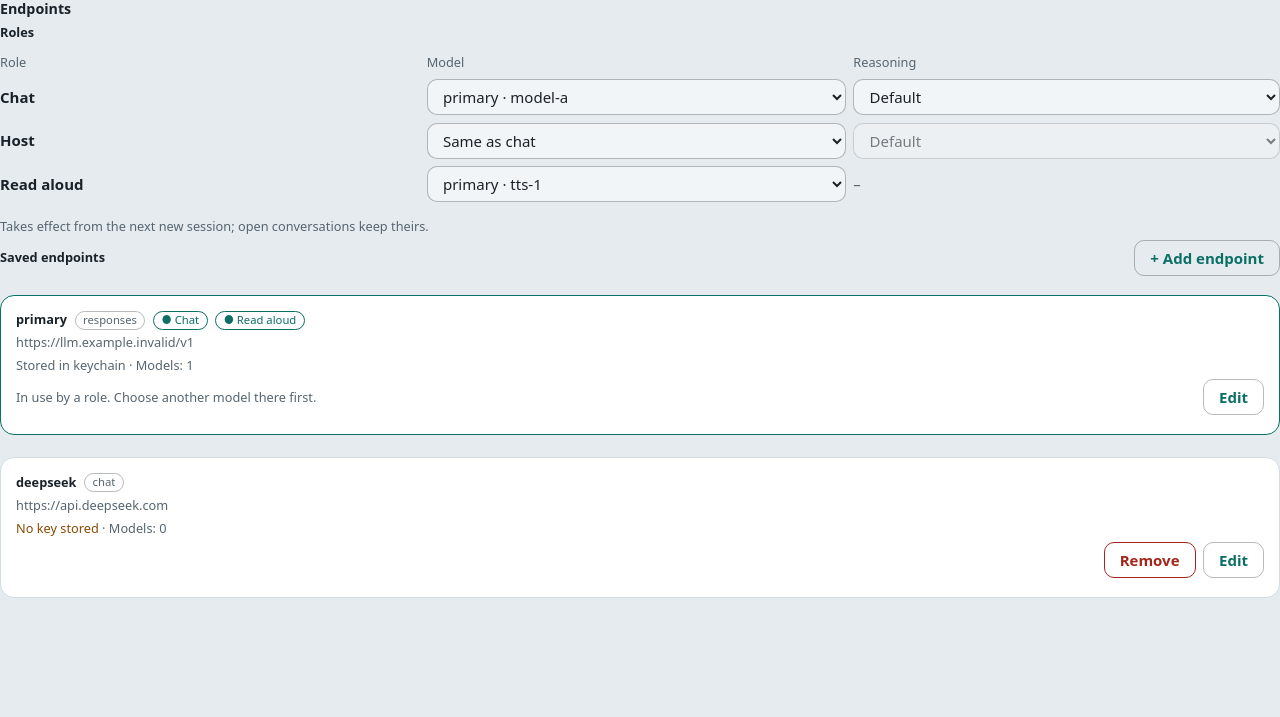
Test case: endpoints › messages wire is offered, with the anthropic preset and cache-write price
Click the button "+ Add endpoint": (1207, 258) [1134,240,1279,276]
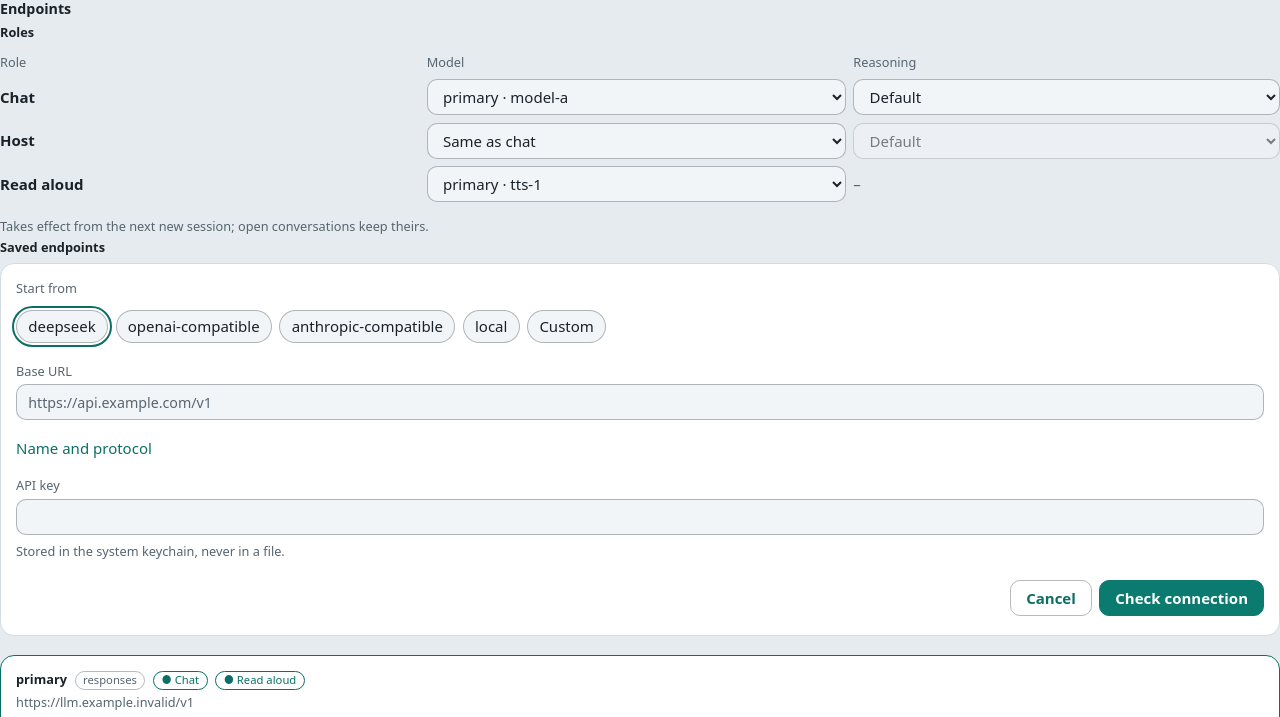
Click the radio button labelled "anthropic-compatible": (367, 326) [279,310,455,343]
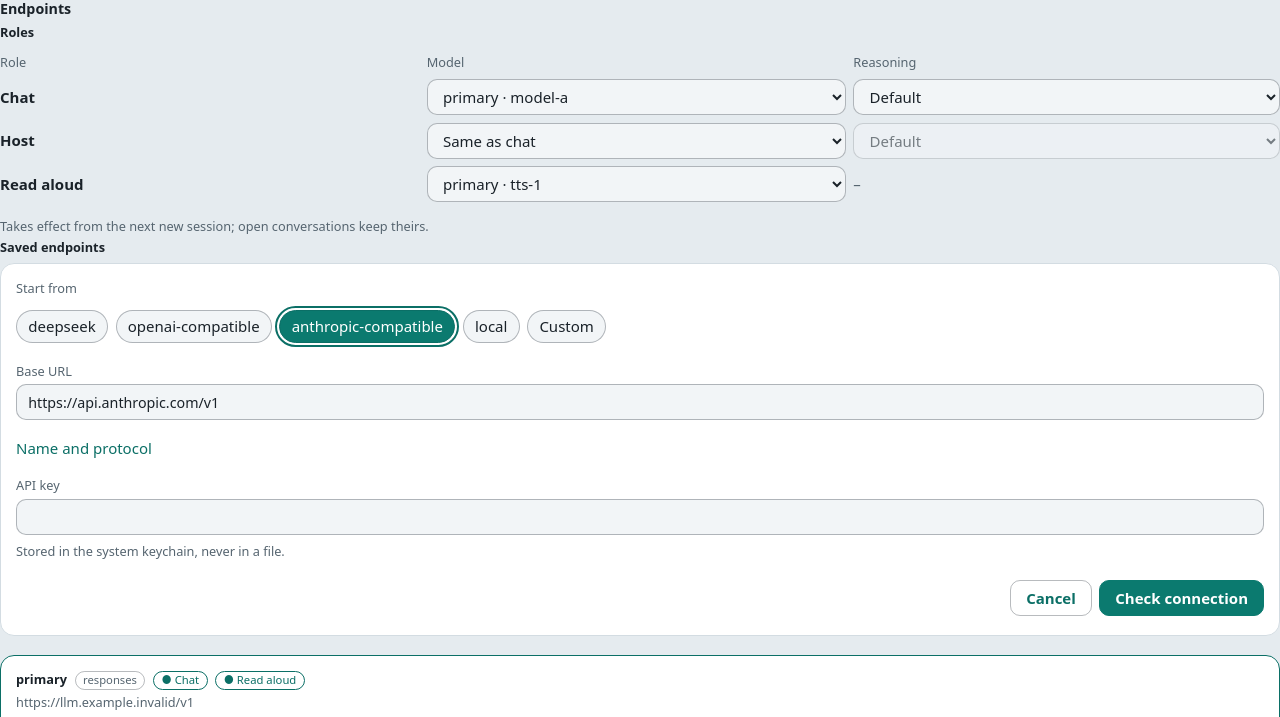
Check: the field showing "https://api.anthropic.com/v1" is shown, box [16,384,1264,420]
